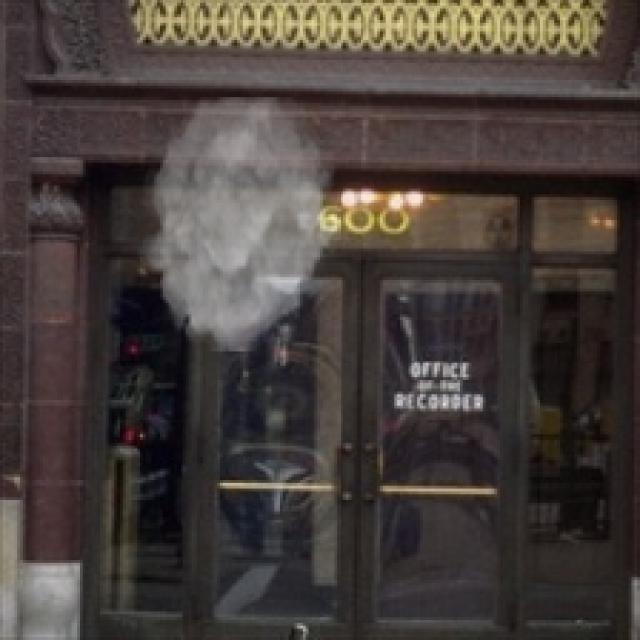Smoke: (137, 97, 343, 352)
